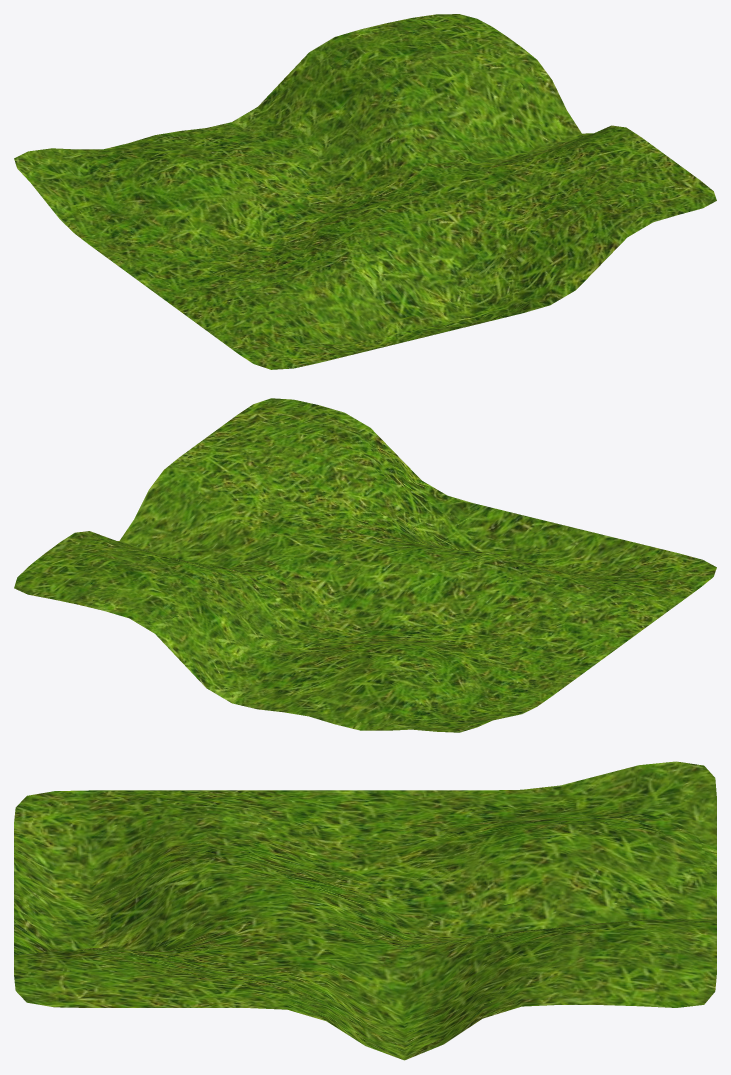
Rendered from Terrain.obj.
The picture shows the model from 3 angles, top to bottom: view 1: azimuth 30°, elevation 25°; view 2: azimuth 150°, elevation 25°; view 3: azimuth 270°, elevation 25°; orthographic projection. The views are drawn at different scales.
Parts seen in each view (by area): view 1: Grid; view 2: Grid; view 3: Grid.
Part boxes in pixels (<box>): Grid: <box>14,14,716,369</box>; Grid: <box>14,398,716,732</box>; Grid: <box>14,761,716,1060</box>.
Size of the model in its own units: 40 by 7.29 by 40.
Materials: 1 (1 with a texture image).
